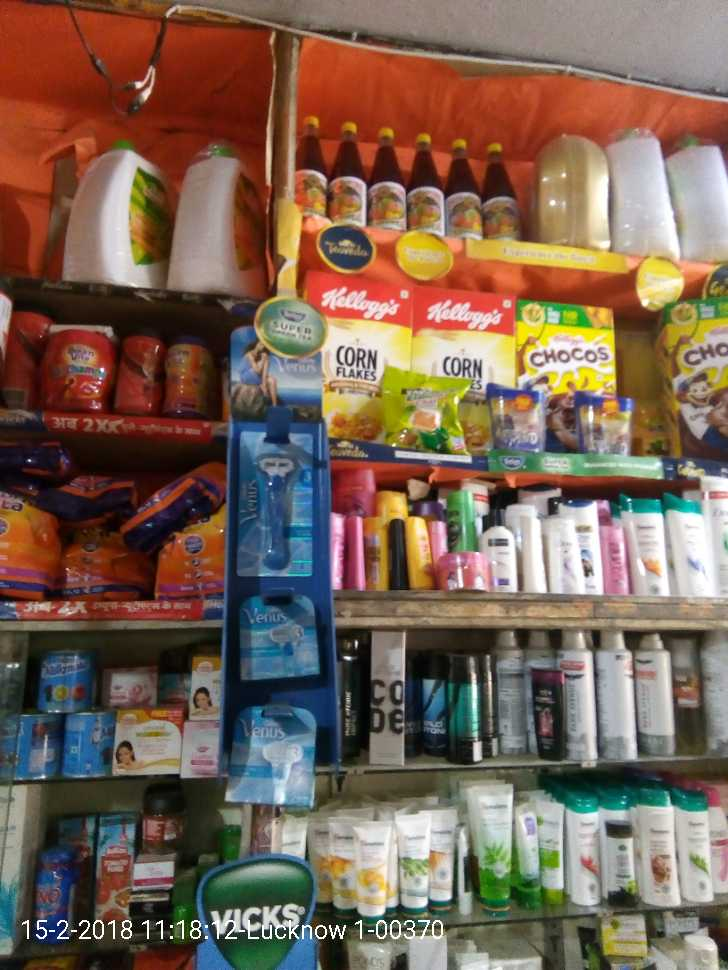venus: (233, 429, 319, 581), (217, 706, 314, 798), (241, 591, 319, 687)
